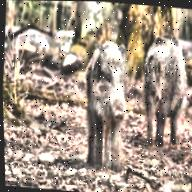boar: (66, 36, 153, 178)
